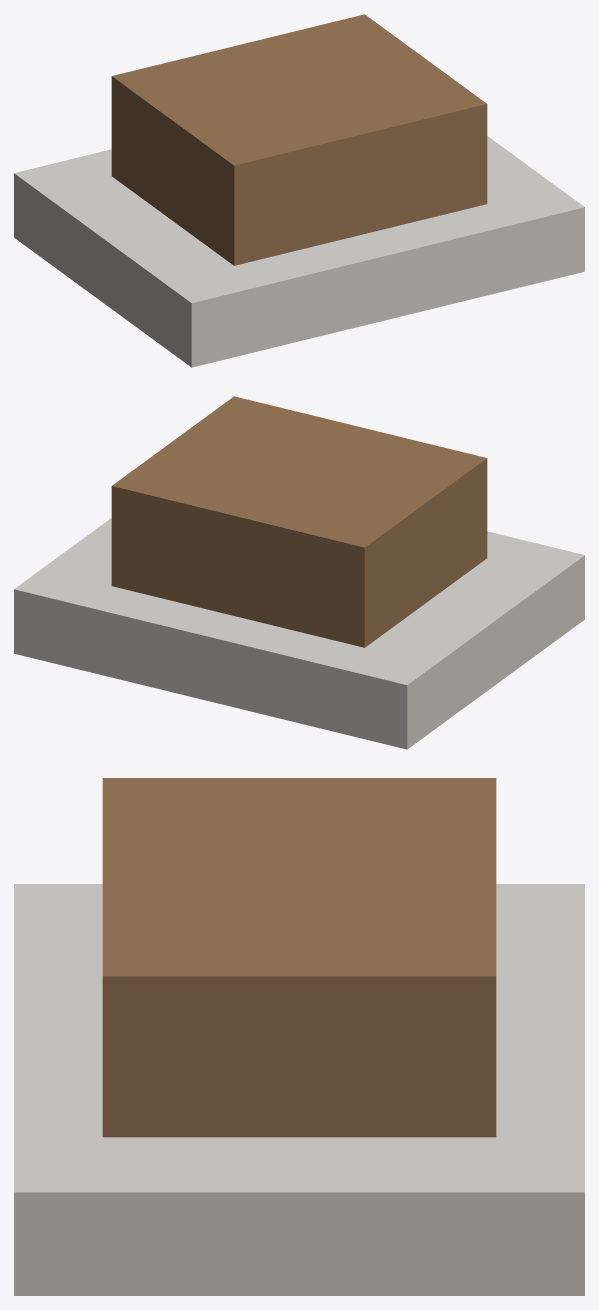
The model's file is storage_cabinet-lv1.glb.
The picture shows the model from 3 angles, top to bottom: view 1: azimuth 30°, elevation 25°; view 2: azimuth 150°, elevation 25°; view 3: azimuth 270°, elevation 25°; orthographic projection. The views are drawn at different scales.
Visible parts, largest first — view 1: Level1, Base; view 2: Level1, Base; view 3: Level1, Base.
Boxes of the visible parts, left/top/right/bottom form: Level1: left=111, top=14, right=487, bottom=265; Base: left=14, top=136, right=584, bottom=367; Level1: left=111, top=396, right=487, bottom=647; Base: left=14, top=518, right=584, bottom=749; Level1: left=102, top=778, right=496, bottom=1137; Base: left=14, top=884, right=584, bottom=1295.
Size of the model in its own units: 1.15 by 0.46 by 0.9.
